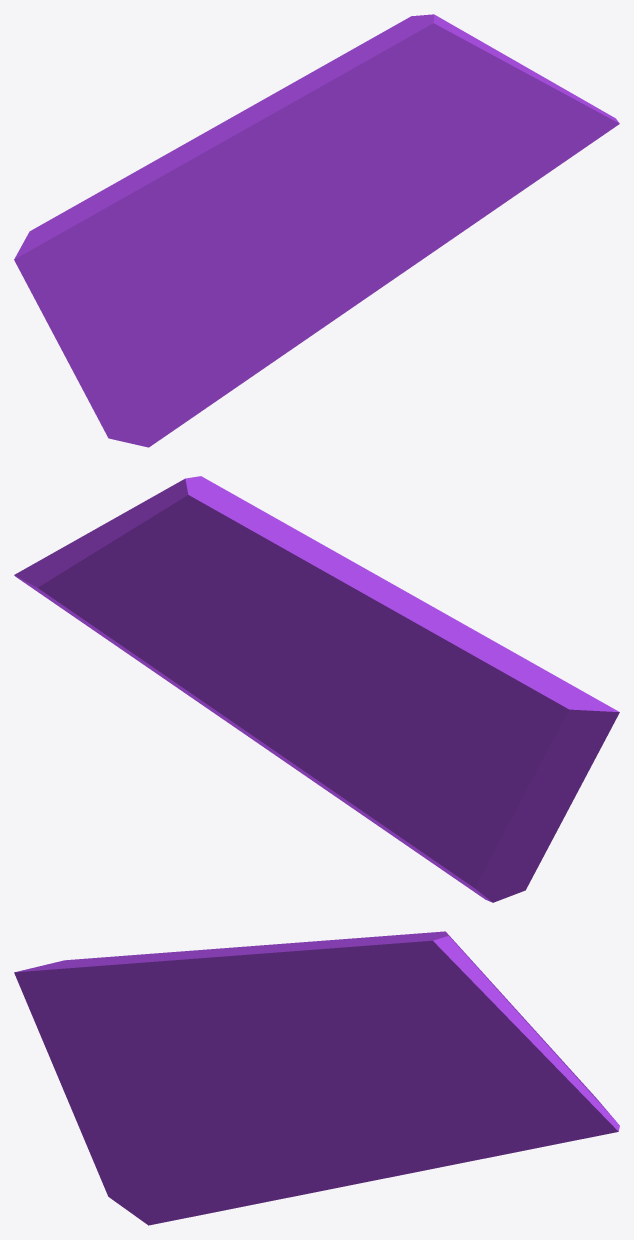
File: Glass_113_9_chunks.fbx
The picture shows the model from 3 angles, top to bottom: view 1: azimuth 30°, elevation 25°; view 2: azimuth 150°, elevation 25°; view 3: azimuth 330°, elevation 25°; orthographic projection.
Parts seen in each view (by area): view 1: Glass_113_9_1, Glass_113_9_3, Glass_113_9_0, Glass_113_9_2; view 2: Glass_113_9_1, Glass_113_9_3, Glass_113_9_0; view 3: Glass_113_9_1, Glass_113_9_3, Glass_113_9_0, Glass_113_9_2.
Boxes of the visible parts, x1,y1,x2,y2 form: Glass_113_9_1: (20, 230, 344, 447); Glass_113_9_3: (333, 14, 619, 288); Glass_113_9_0: (14, 31, 418, 271); Glass_113_9_2: (291, 190, 379, 312); Glass_113_9_1: (275, 687, 613, 902); Glass_113_9_3: (14, 476, 312, 753); Glass_113_9_0: (216, 484, 619, 725); Glass_113_9_1: (20, 987, 343, 1225); Glass_113_9_3: (332, 931, 619, 1179); Glass_113_9_0: (14, 933, 417, 1077); Glass_113_9_2: (291, 1058, 379, 1186).
Bounding box in the file's own units: 541 × 304 × 27.2.
